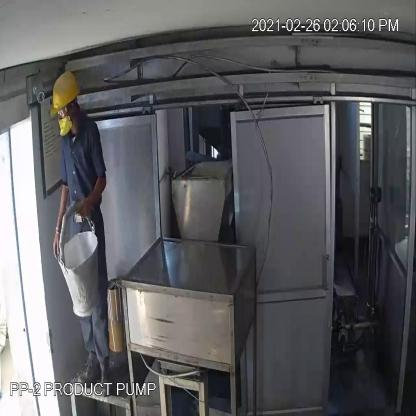helmet: (45, 70, 82, 136)
